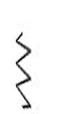resistor: (6, 29, 35, 109)
